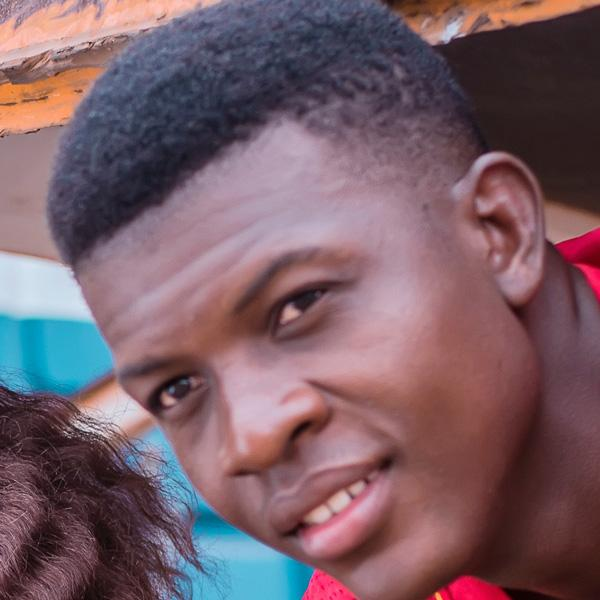Eyes: (261, 263, 353, 346), (144, 361, 213, 429)
